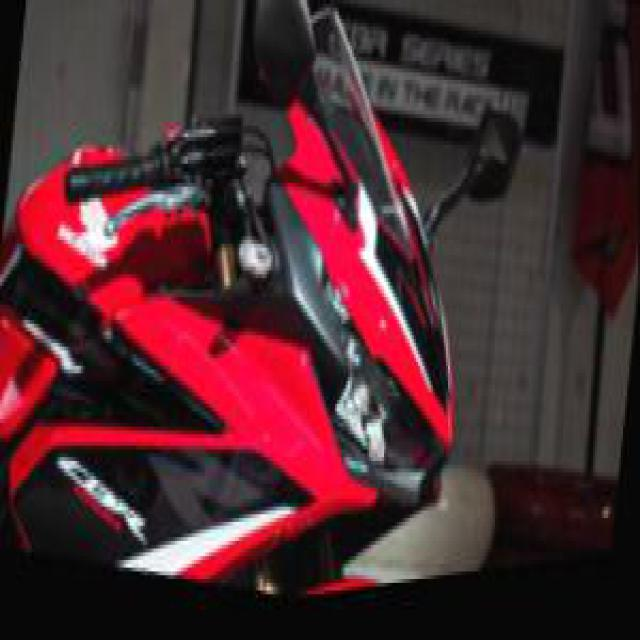CBR500R: (0, 0, 499, 636)
